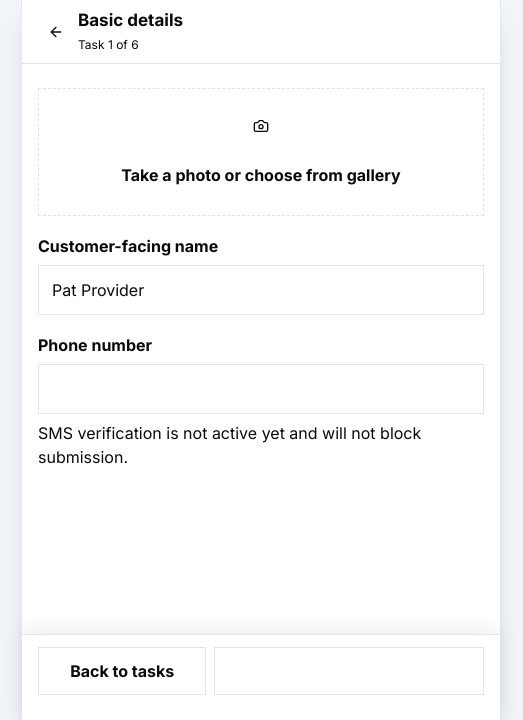
Test: a failed flush keeps the provider on the task › "Keep editing" dismisses the notice and stays on the task
Replace the text in the field with test id "field-displayName" with "x" at (261, 290), box [38,265,484,315]
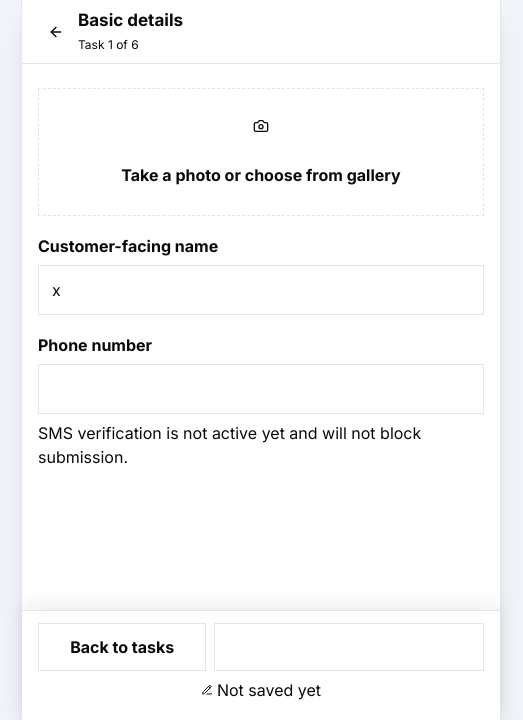
Click the button with test id "onboarding-v2-close" at (56, 32), box [34,10,78,54]
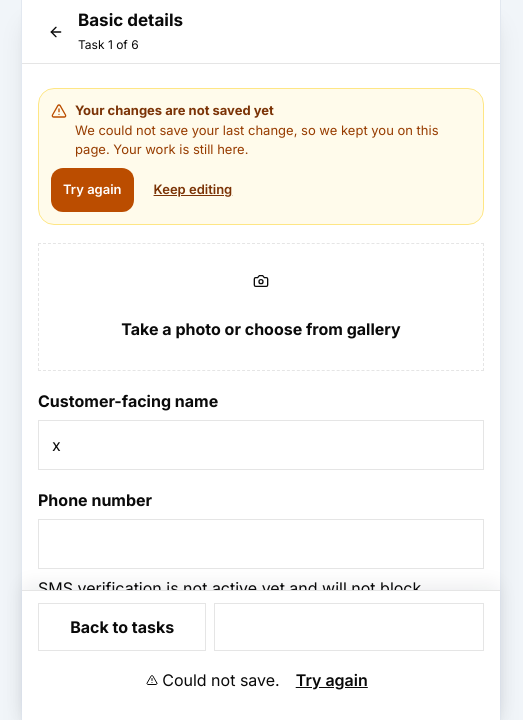
Expected: the message with test id "onboarding-exit-blocked" is shown, [38,88,484,224]
Click the button with test id "onboarding-exit-stay" at (193, 190), box [142,168,244,212]
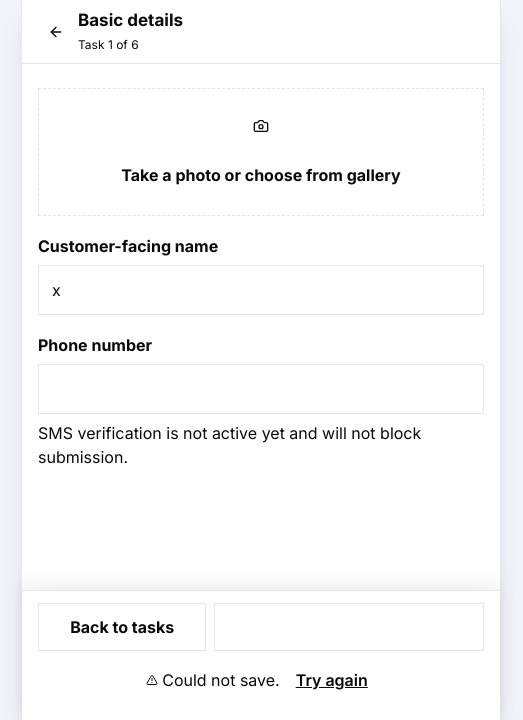
Expected: the message with test id "onboarding-exit-blocked" is gone
